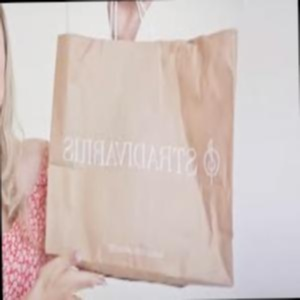stradivarius: (196, 60, 254, 181)
